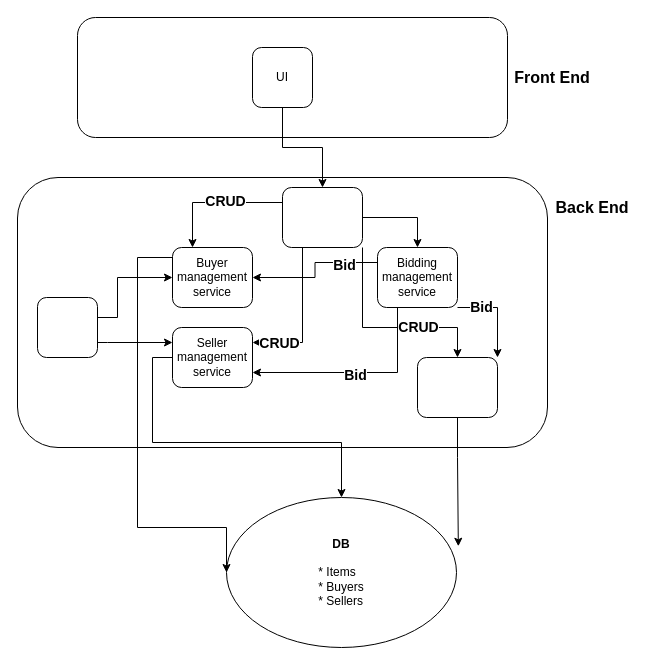
Some shapes in this 655 by 665 pixel diagram are drawn without their labels. Here are the shapes that lost their labels. From the top down, the centre of each, then its label:
the point at 322,217: API service
the point at 67,327: Key Cloak
the point at 457,387: Item management service
